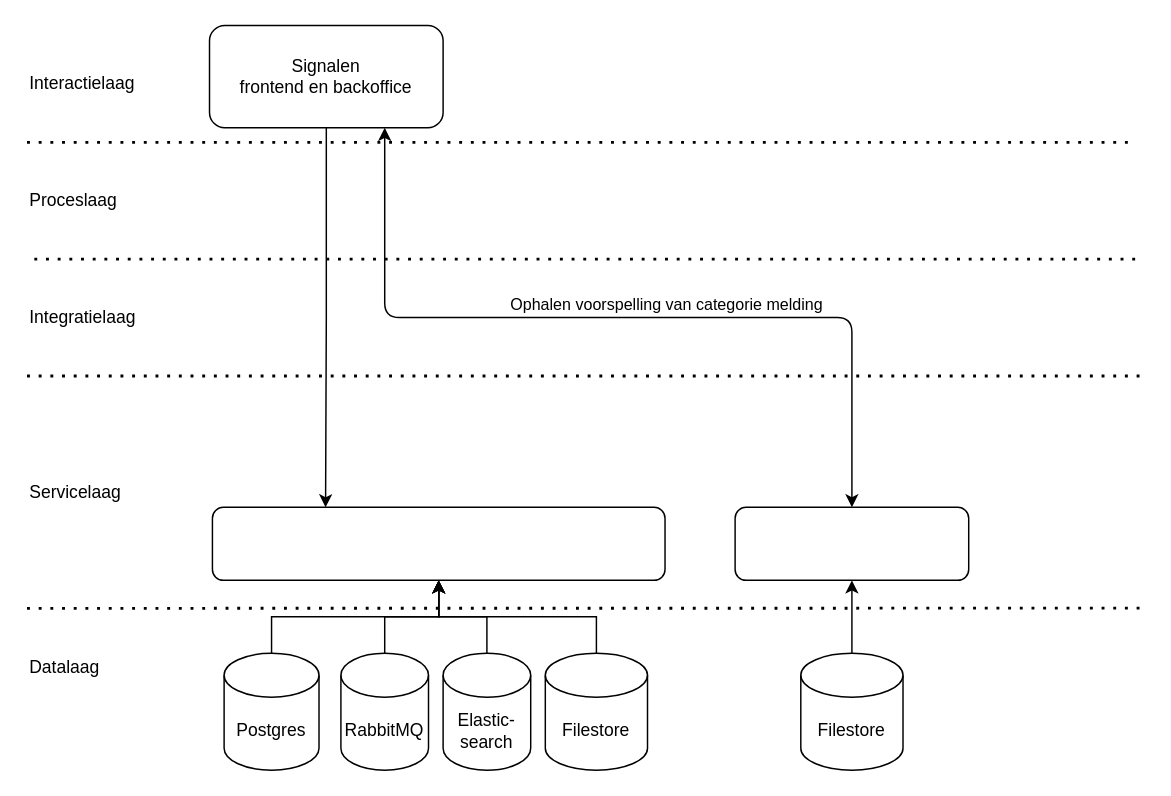
Image size: 1171x796. Some labels were removed from this diagram. Here are the shapes that lost their labels. From the top down, the centre of each, then its label:
(x=438, y=543): Signalen API
(x=851, y=543): Classification API
